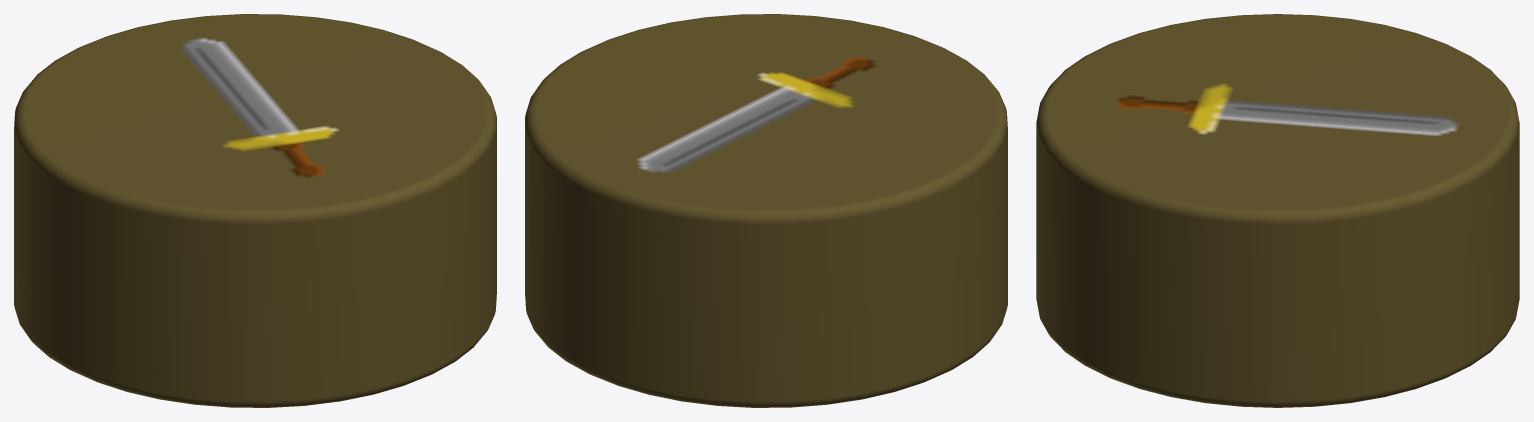
Rendered from Talldisc.fbx.
The picture shows the model from 3 angles, left to right: view 1: azimuth 30°, elevation 25°; view 2: azimuth 150°, elevation 25°; view 3: azimuth 270°, elevation 25°; orthographic projection.
Visible parts, largest first — view 1: pCylinder1; view 2: pCylinder1; view 3: pCylinder1.
Part boxes in pixels (x1,y1,x2,y2): pCylinder1: (14, 14, 496, 407); pCylinder1: (525, 14, 1007, 407); pCylinder1: (1036, 14, 1519, 407).
Size of the model in its own units: 2 by 0.9 by 2.
Materials: 1 (1 with a texture image).
